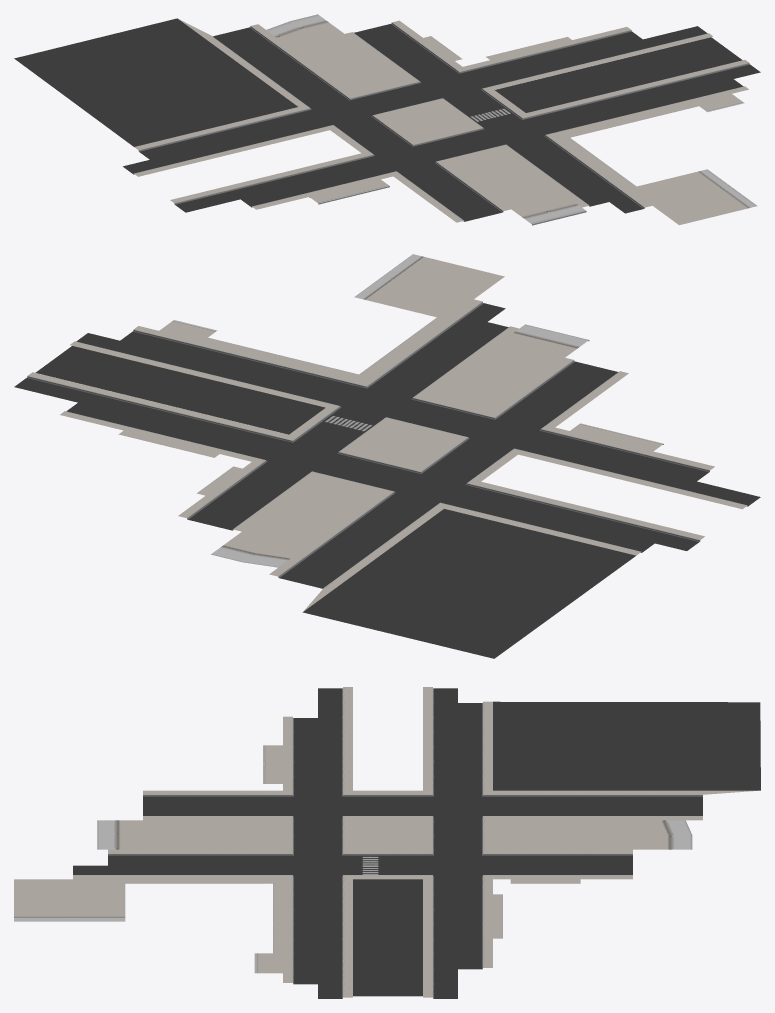
Rendered from Level18_1.FBX.
3 views of the same model, one above another, from view 1: azimuth 30°, elevation 25°; view 2: azimuth 150°, elevation 25°; view 3: azimuth 270°, elevation 25° (orthographic). The views are drawn at different scales.
Visible parts, largest first — view 1: _Roads_L18_1; view 2: _Roads_L18_1; view 3: _Roads_L18_1.
Boxes of the visible parts, bbox=[...] form: _Roads_L18_1: bbox=[14, 14, 760, 225]; _Roads_L18_1: bbox=[14, 254, 760, 658]; _Roads_L18_1: bbox=[14, 687, 760, 998].
Bounding box in the file's own units: 210 × 0.3896 × 213.
